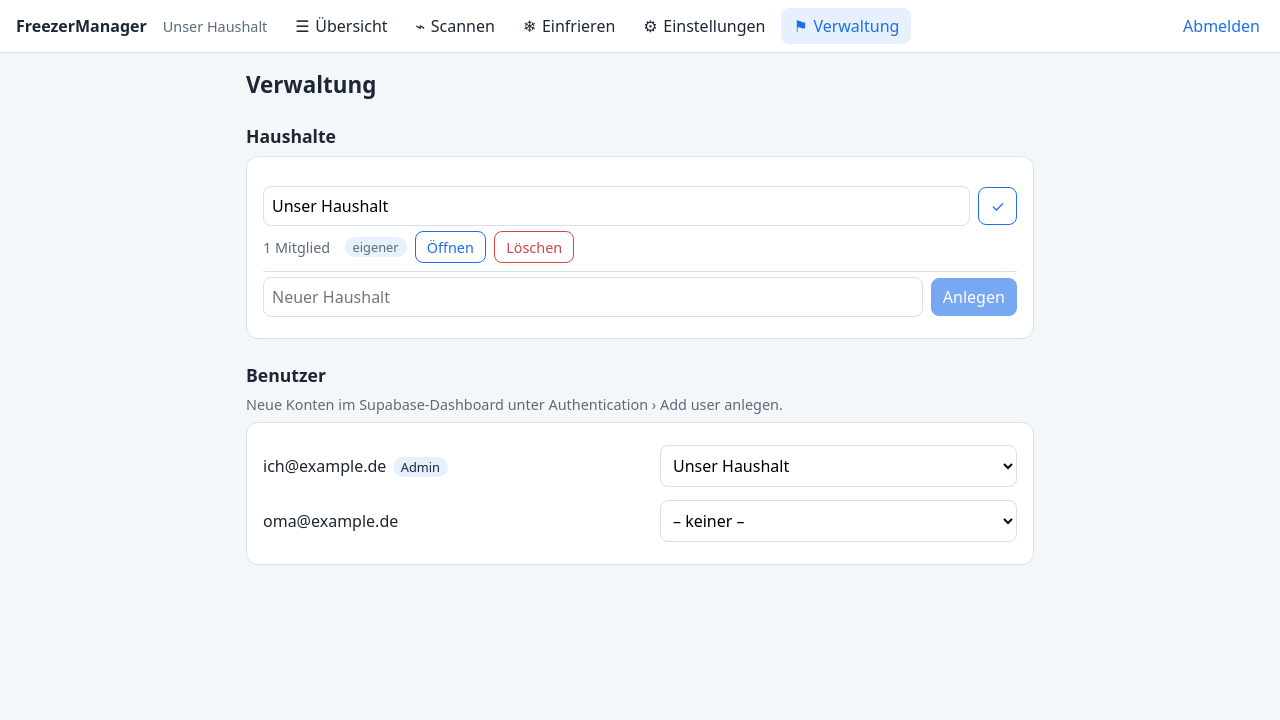
Test: renames a household
The width and height of the screenshot is (1280, 720).
Replace the text in the field named "Haushalt Unser Haushalt" with "Zuhause". click: coordinates (617, 206)
box: [263,186,970,226]
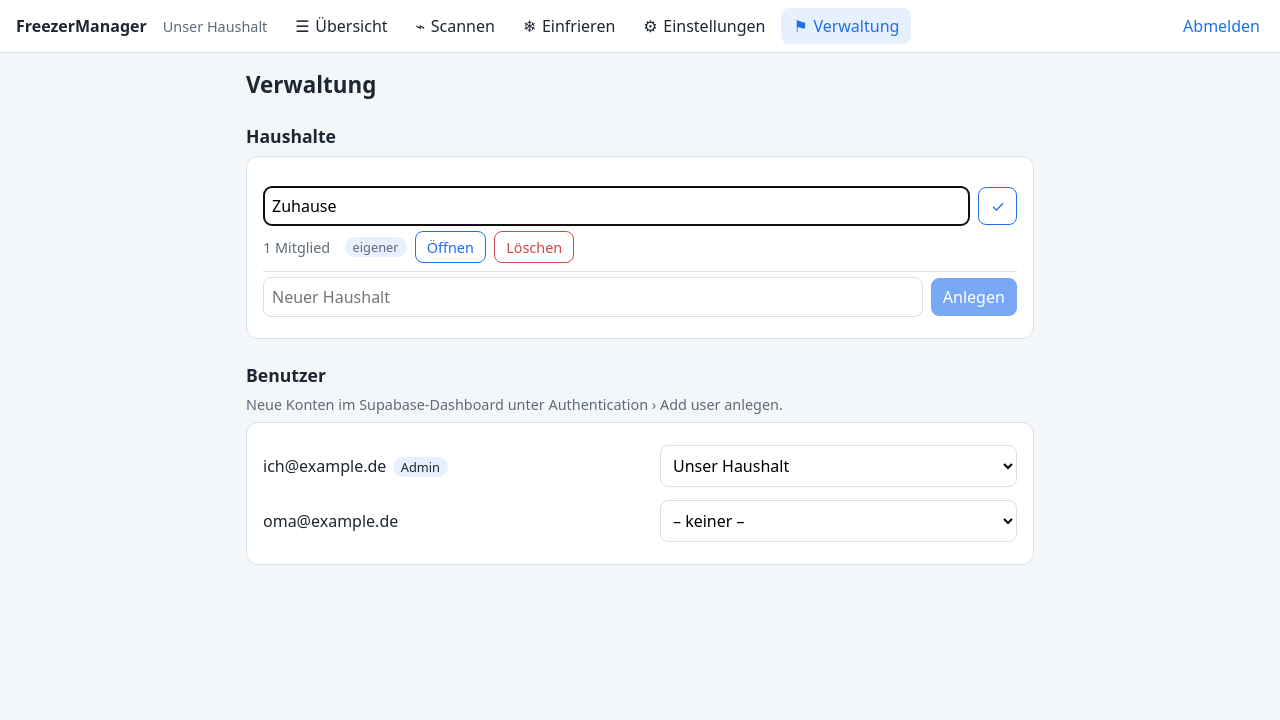
Click the button named "Unser Haushalt speichern". click: coordinates (998, 206)
box: [978,187,1017,225]
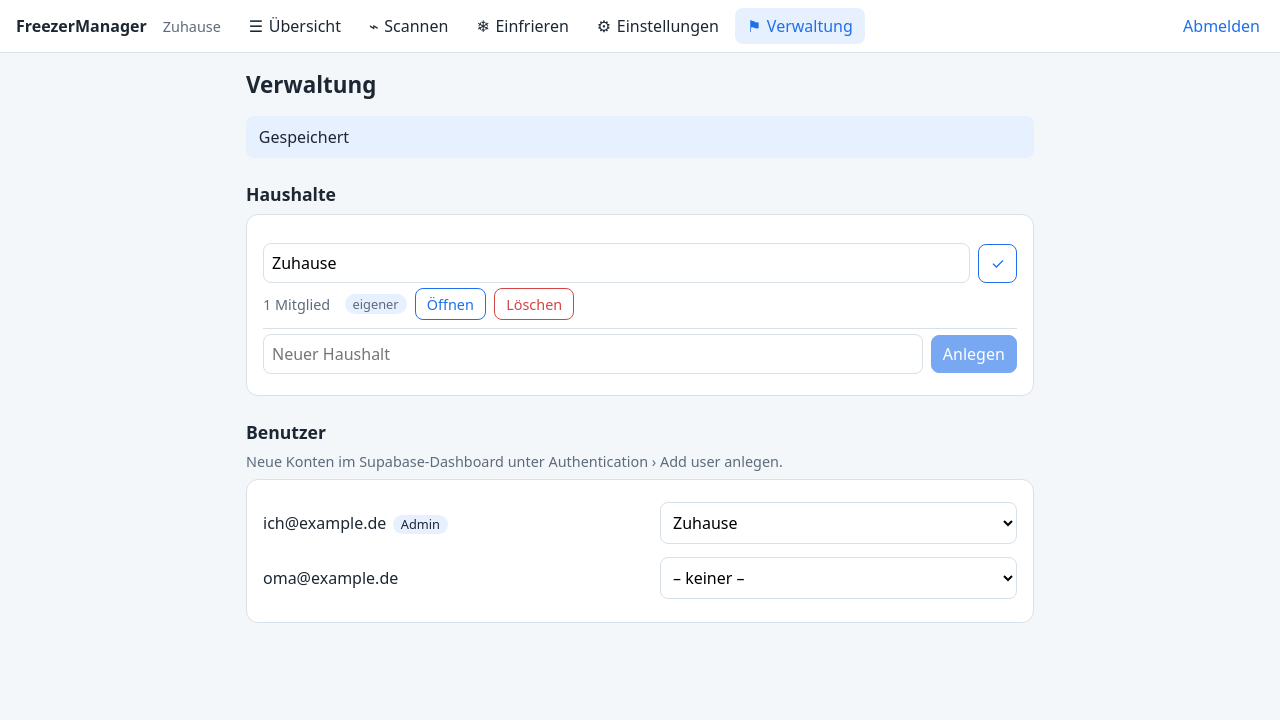
Expected: the field named "Haushalt Zuhause" is shown, [263,243,970,283]
